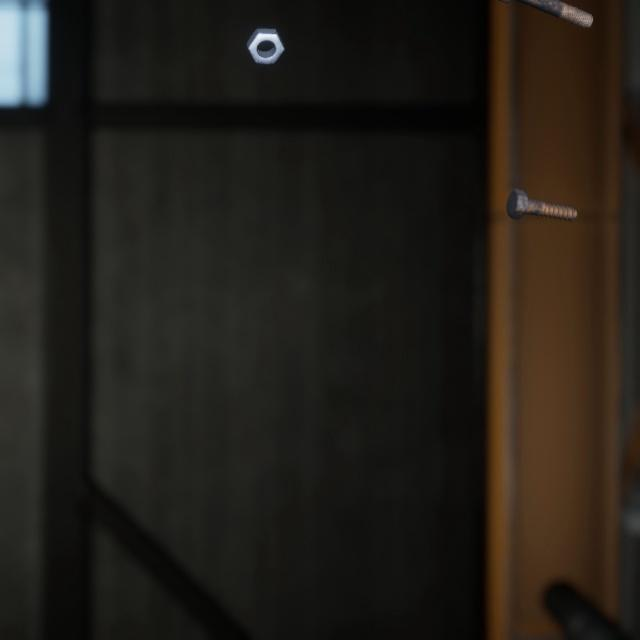bolt: (501, 169, 582, 211), (528, 0, 597, 26)
nut: (242, 13, 289, 58)
